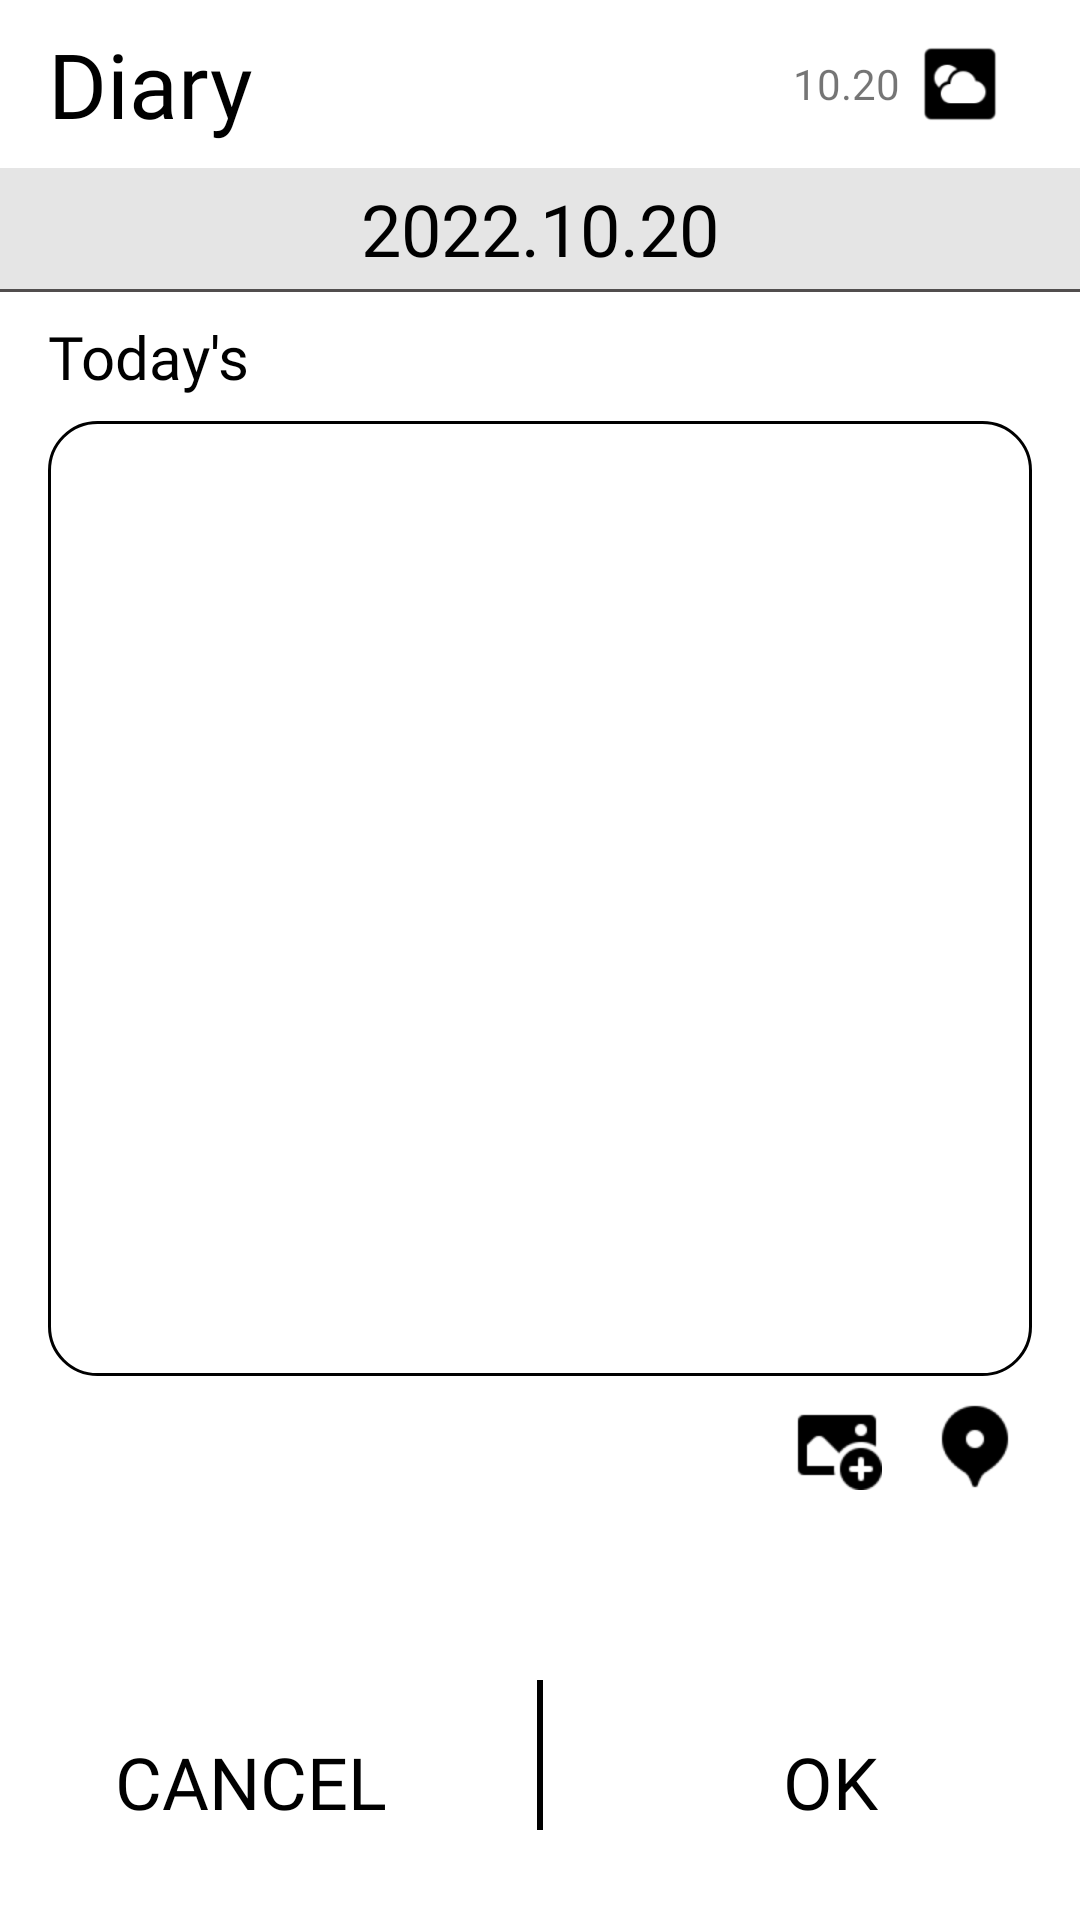

Icon click points for this 1080px×1920px phone screenshot, format point (x, y):
location: point (975, 1446)
photo: point (839, 1452)
weather: point (960, 84)
